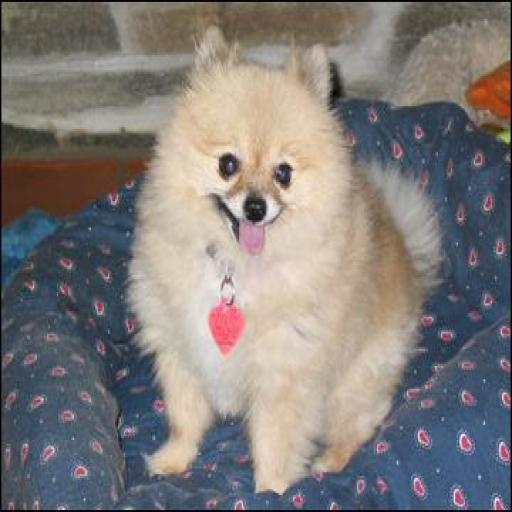dog_face: (178, 28, 328, 236)
